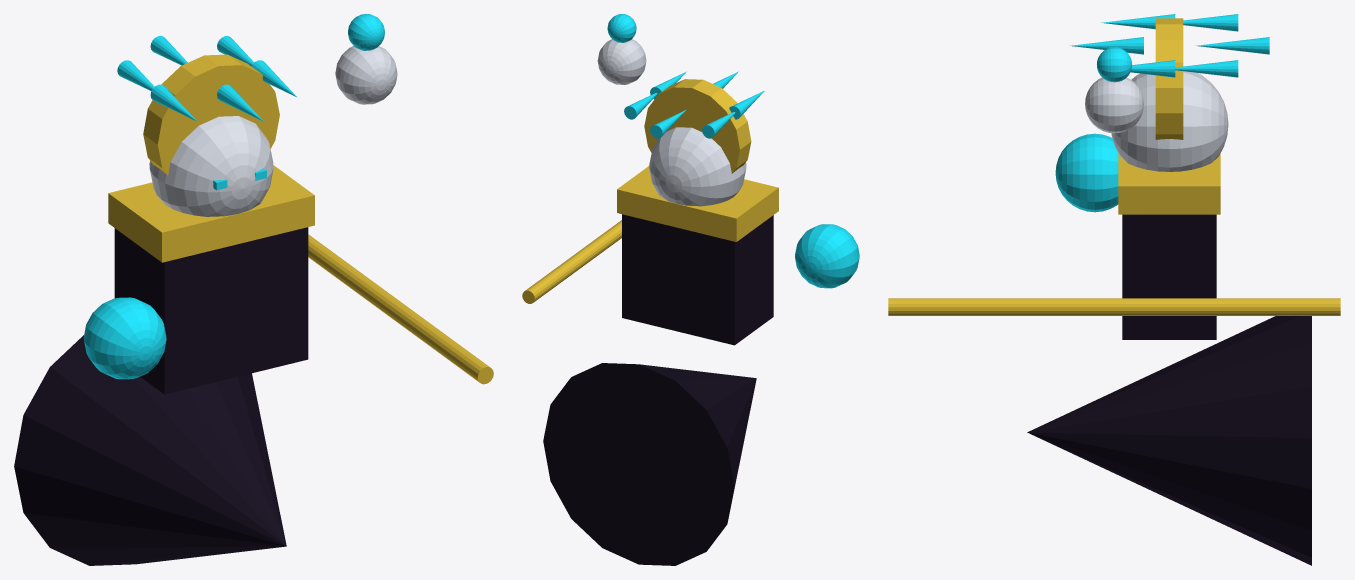
The model's file is lich_king.obj.
The picture shows the model from 3 angles, left to right: view 1: azimuth 30°, elevation 25°; view 2: azimuth 150°, elevation 25°; view 3: azimuth 270°, elevation 25°; orthographic projection. The views are drawn at different scales.
Parts seen in each view (by area): view 1: Void_Skirt, Torso_Mantle, Gold_Collar, Skull, Crown_Ring, Soul_Sphere, Staff_Handle, Staff_Top_Skull, Staff_Soul_Core, Crown_Spike_0, Crown_Spike_5; view 2: Void_Skirt, Torso_Mantle, Gold_Collar, Skull, Crown_Ring, Soul_Sphere, Staff_Handle, Staff_Top_Skull, Staff_Soul_Core; view 3: Void_Skirt, Torso_Mantle, Staff_Handle, Skull, Gold_Collar, Soul_Sphere, Crown_Ring, Staff_Top_Skull, Staff_Soul_Core, Crown_Spike_3, Crown_Spike_2, Crown_Spike_4 (+2 smaller).
Boxes of the visible parts, x1,y1,x2,y2 form: Void_Skirt: (14,335,286,565); Torso_Mantle: (114,227,308,394); Gold_Collar: (108,165,314,262); Skull: (149,116,273,216); Crown_Ring: (143,54,279,175); Soul_Sphere: (83,297,166,379); Staff_Handle: (308,234,493,384); Staff_Top_Skull: (335,46,397,104); Staff_Soul_Core: (348,14,384,50); Crown_Spike_0: (217,84,263,121); Crown_Spike_5: (150,84,197,121); Void_Skirt: (543,363,756,565); Torso_Mantle: (622,214,773,345); Gold_Collar: (617,166,778,241); Skull: (649,127,746,206); Crown_Ring: (644,79,751,173); Soul_Sphere: (795,224,859,288); Staff_Handle: (522,220,621,303); Staff_Top_Skull: (597,39,646,84); Staff_Soul_Core: (607,14,636,42); Void_Skirt: (1027,316,1311,565); Torso_Mantle: (1122,214,1216,339); Staff_Handle: (888,298,1340,315); Skull: (1111,71,1228,171); Gold_Collar: (1118,153,1220,214); Soul_Sphere: (1055,133,1118,212); Crown_Ring: (1155,18,1183,139); Staff_Top_Skull: (1085,77,1143,133); Staff_Soul_Core: (1097,47,1131,82); Crown_Spike_3: (1195,37,1269,54); Crown_Spike_2: (1175,60,1238,77); Crown_Spike_4: (1183,14,1238,31).
Size of the model in its own units: 1.75 by 3.16 by 2.3.
